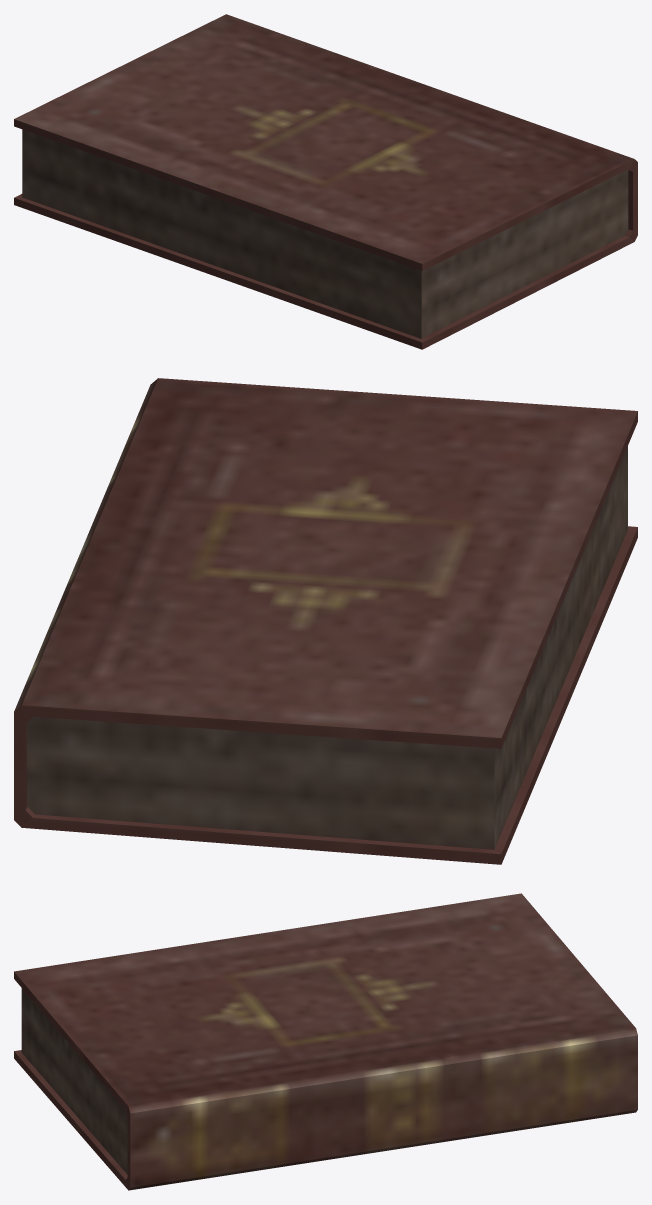
3 views of the same model, one above another, from view 1: azimuth 30°, elevation 25°; view 2: azimuth 150°, elevation 25°; view 3: azimuth 270°, elevation 25° (orthographic). The views are drawn at different scales.
Visible parts, largest first — view 1: book_1; view 2: book_1; view 3: book_1.
Part boxes in pixels (x1,y1,x2,y2): book_1: (14, 14, 637, 349); book_1: (14, 378, 637, 864); book_1: (14, 893, 637, 1190).
Bounding box in the file's own units: 0.2521 × 0.048 × 0.3119.
Materials: 1 (1 with a texture image).
